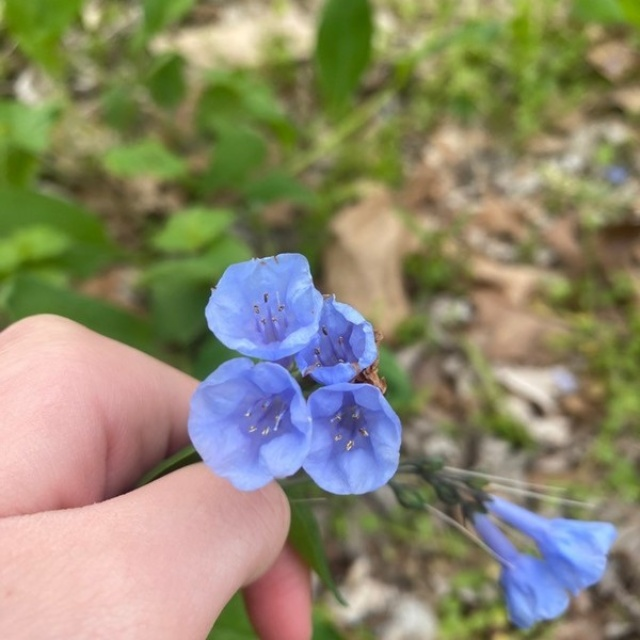obstacle: (171, 247, 576, 627)
